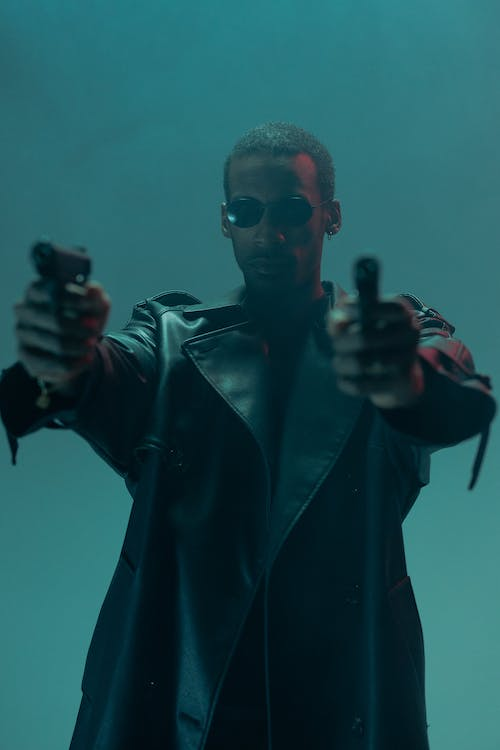gun: (29, 234, 96, 289), (352, 244, 382, 300)
